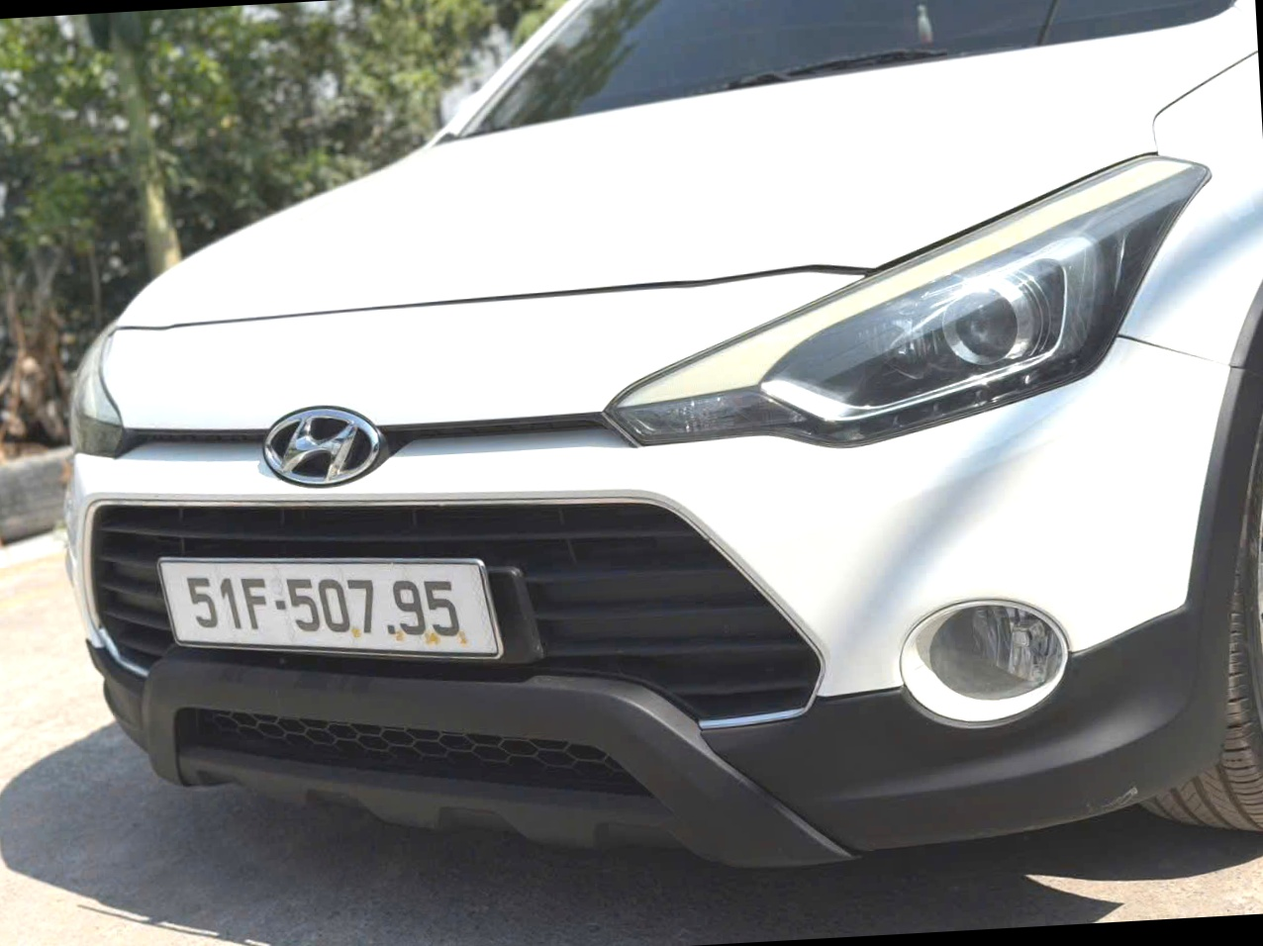Bien-so: (233, 533, 531, 640)
